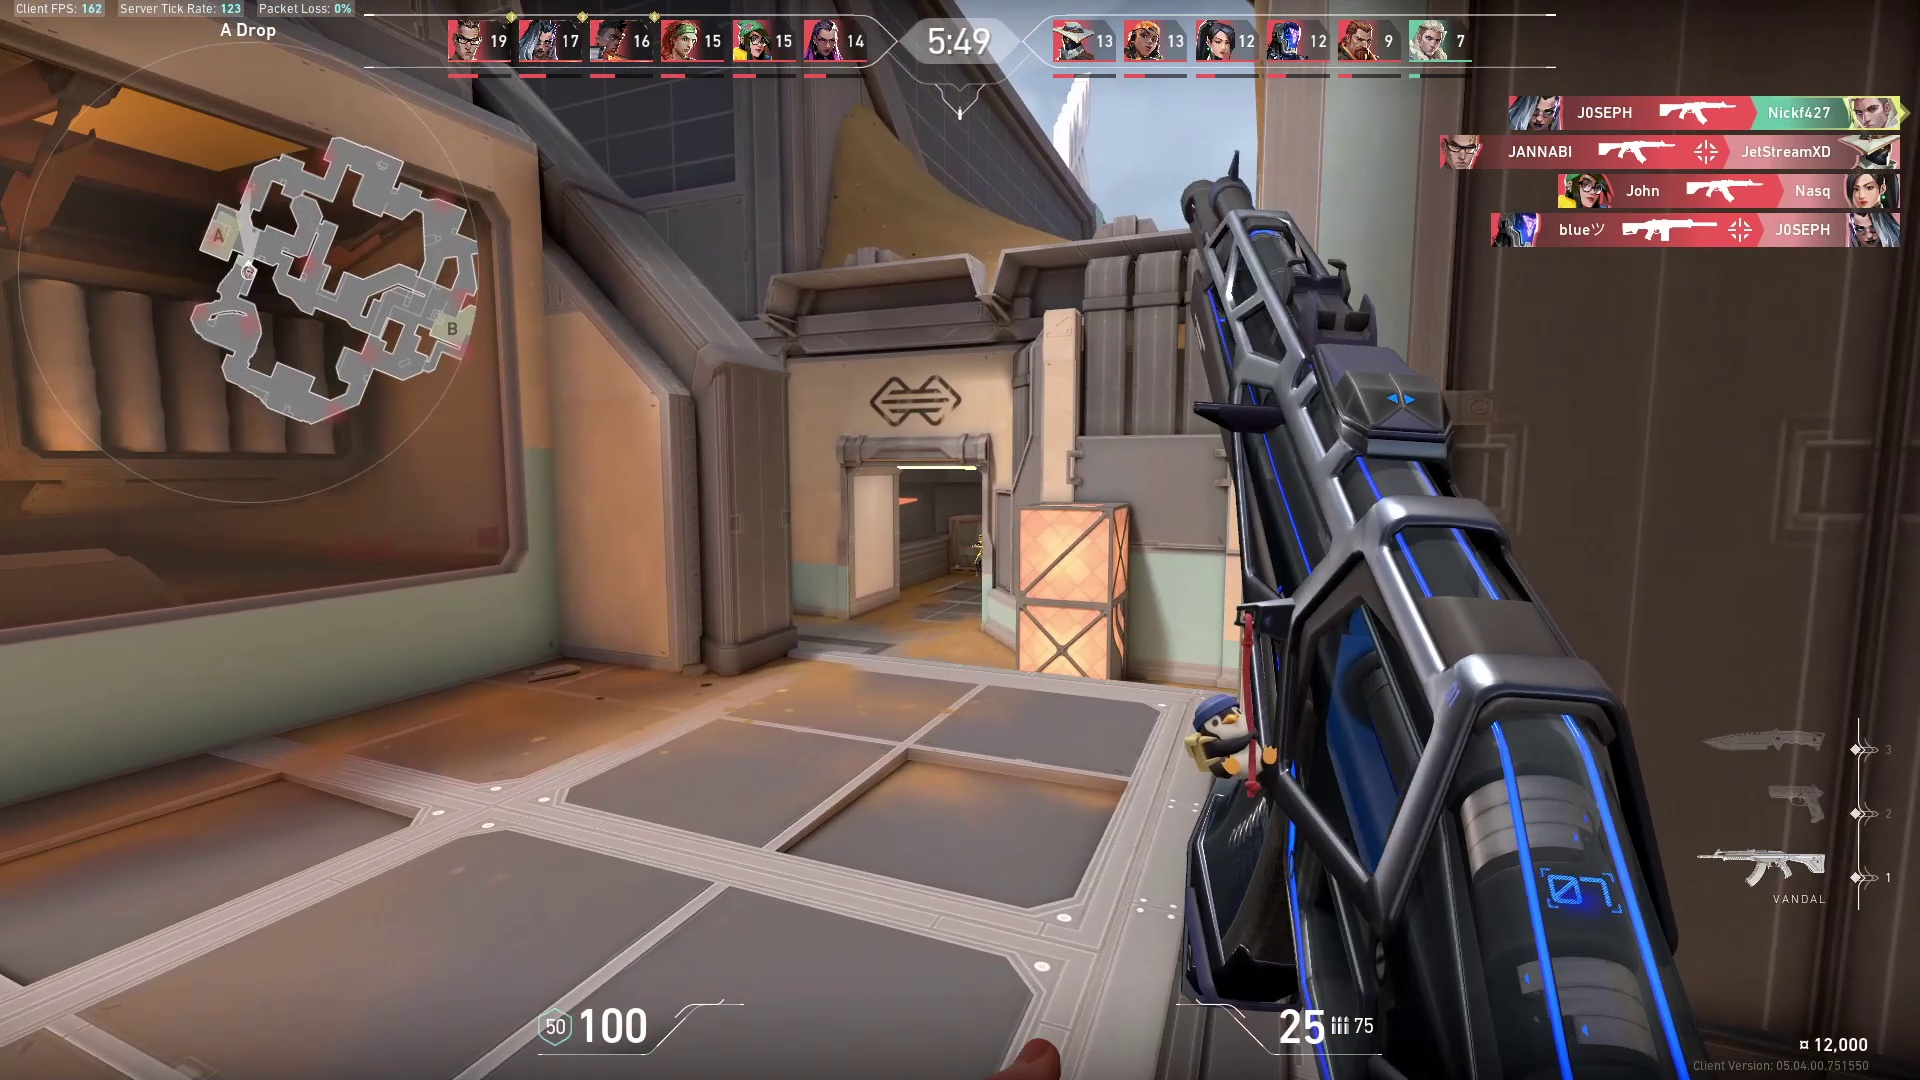enemy_body: (969, 543, 982, 578)
enemy_head: (978, 533, 982, 542)
